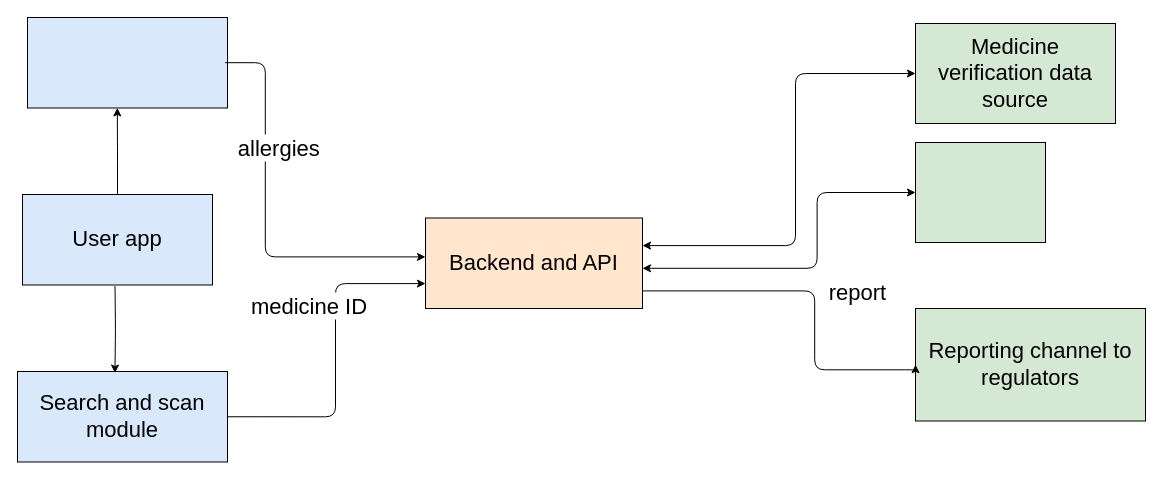
This 1163x480 diagram has some shape labels left out. Here are the shapes that lost their labels. From the top down, the centre of each, then its label:
At point (127, 62): "Allergy profile".
At point (980, 192): "Database (MySQL)".
